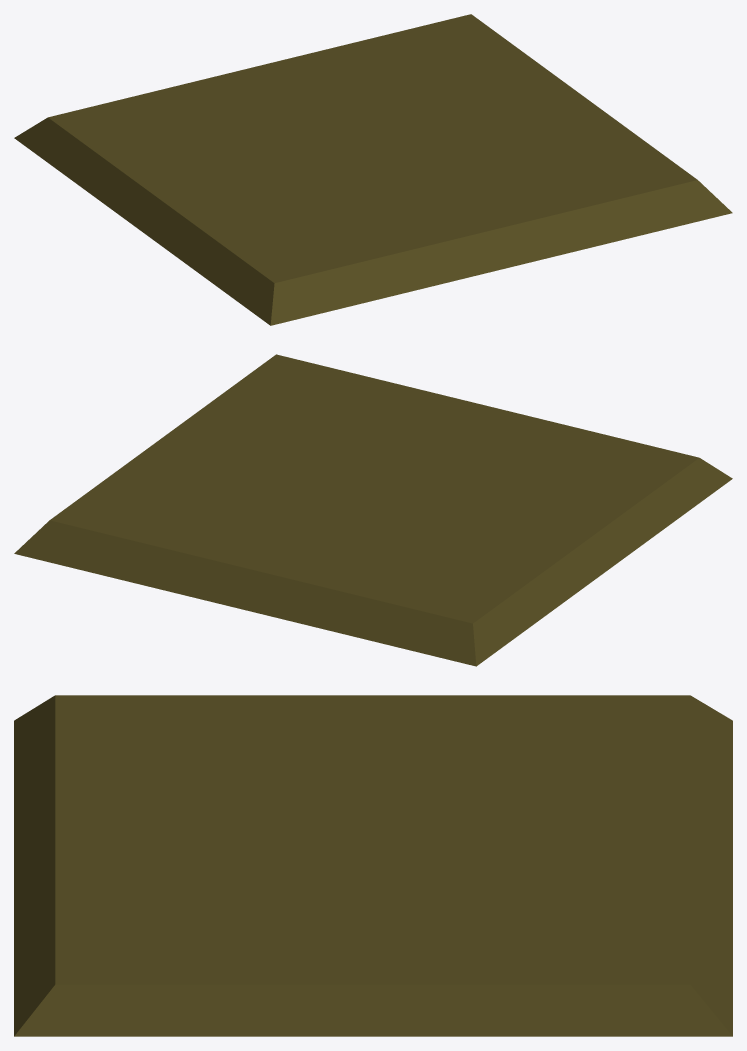
The model's file is Farm.fbx.
3 renders of one model, top to bottom at view 1: azimuth 30°, elevation 25°; view 2: azimuth 150°, elevation 25°; view 3: azimuth 270°, elevation 25°, orthographic. The views are drawn at different scales.
Parts seen in each view (by area): view 1: LandWet; view 2: LandWet; view 3: LandWet.
Boxes of the visible parts, <box> form: LandWet: <box>14,14,732,325</box>; LandWet: <box>14,354,732,666</box>; LandWet: <box>14,695,732,1036</box>.
Bounding box in the file's own units: 345 × 19.44 × 332.
